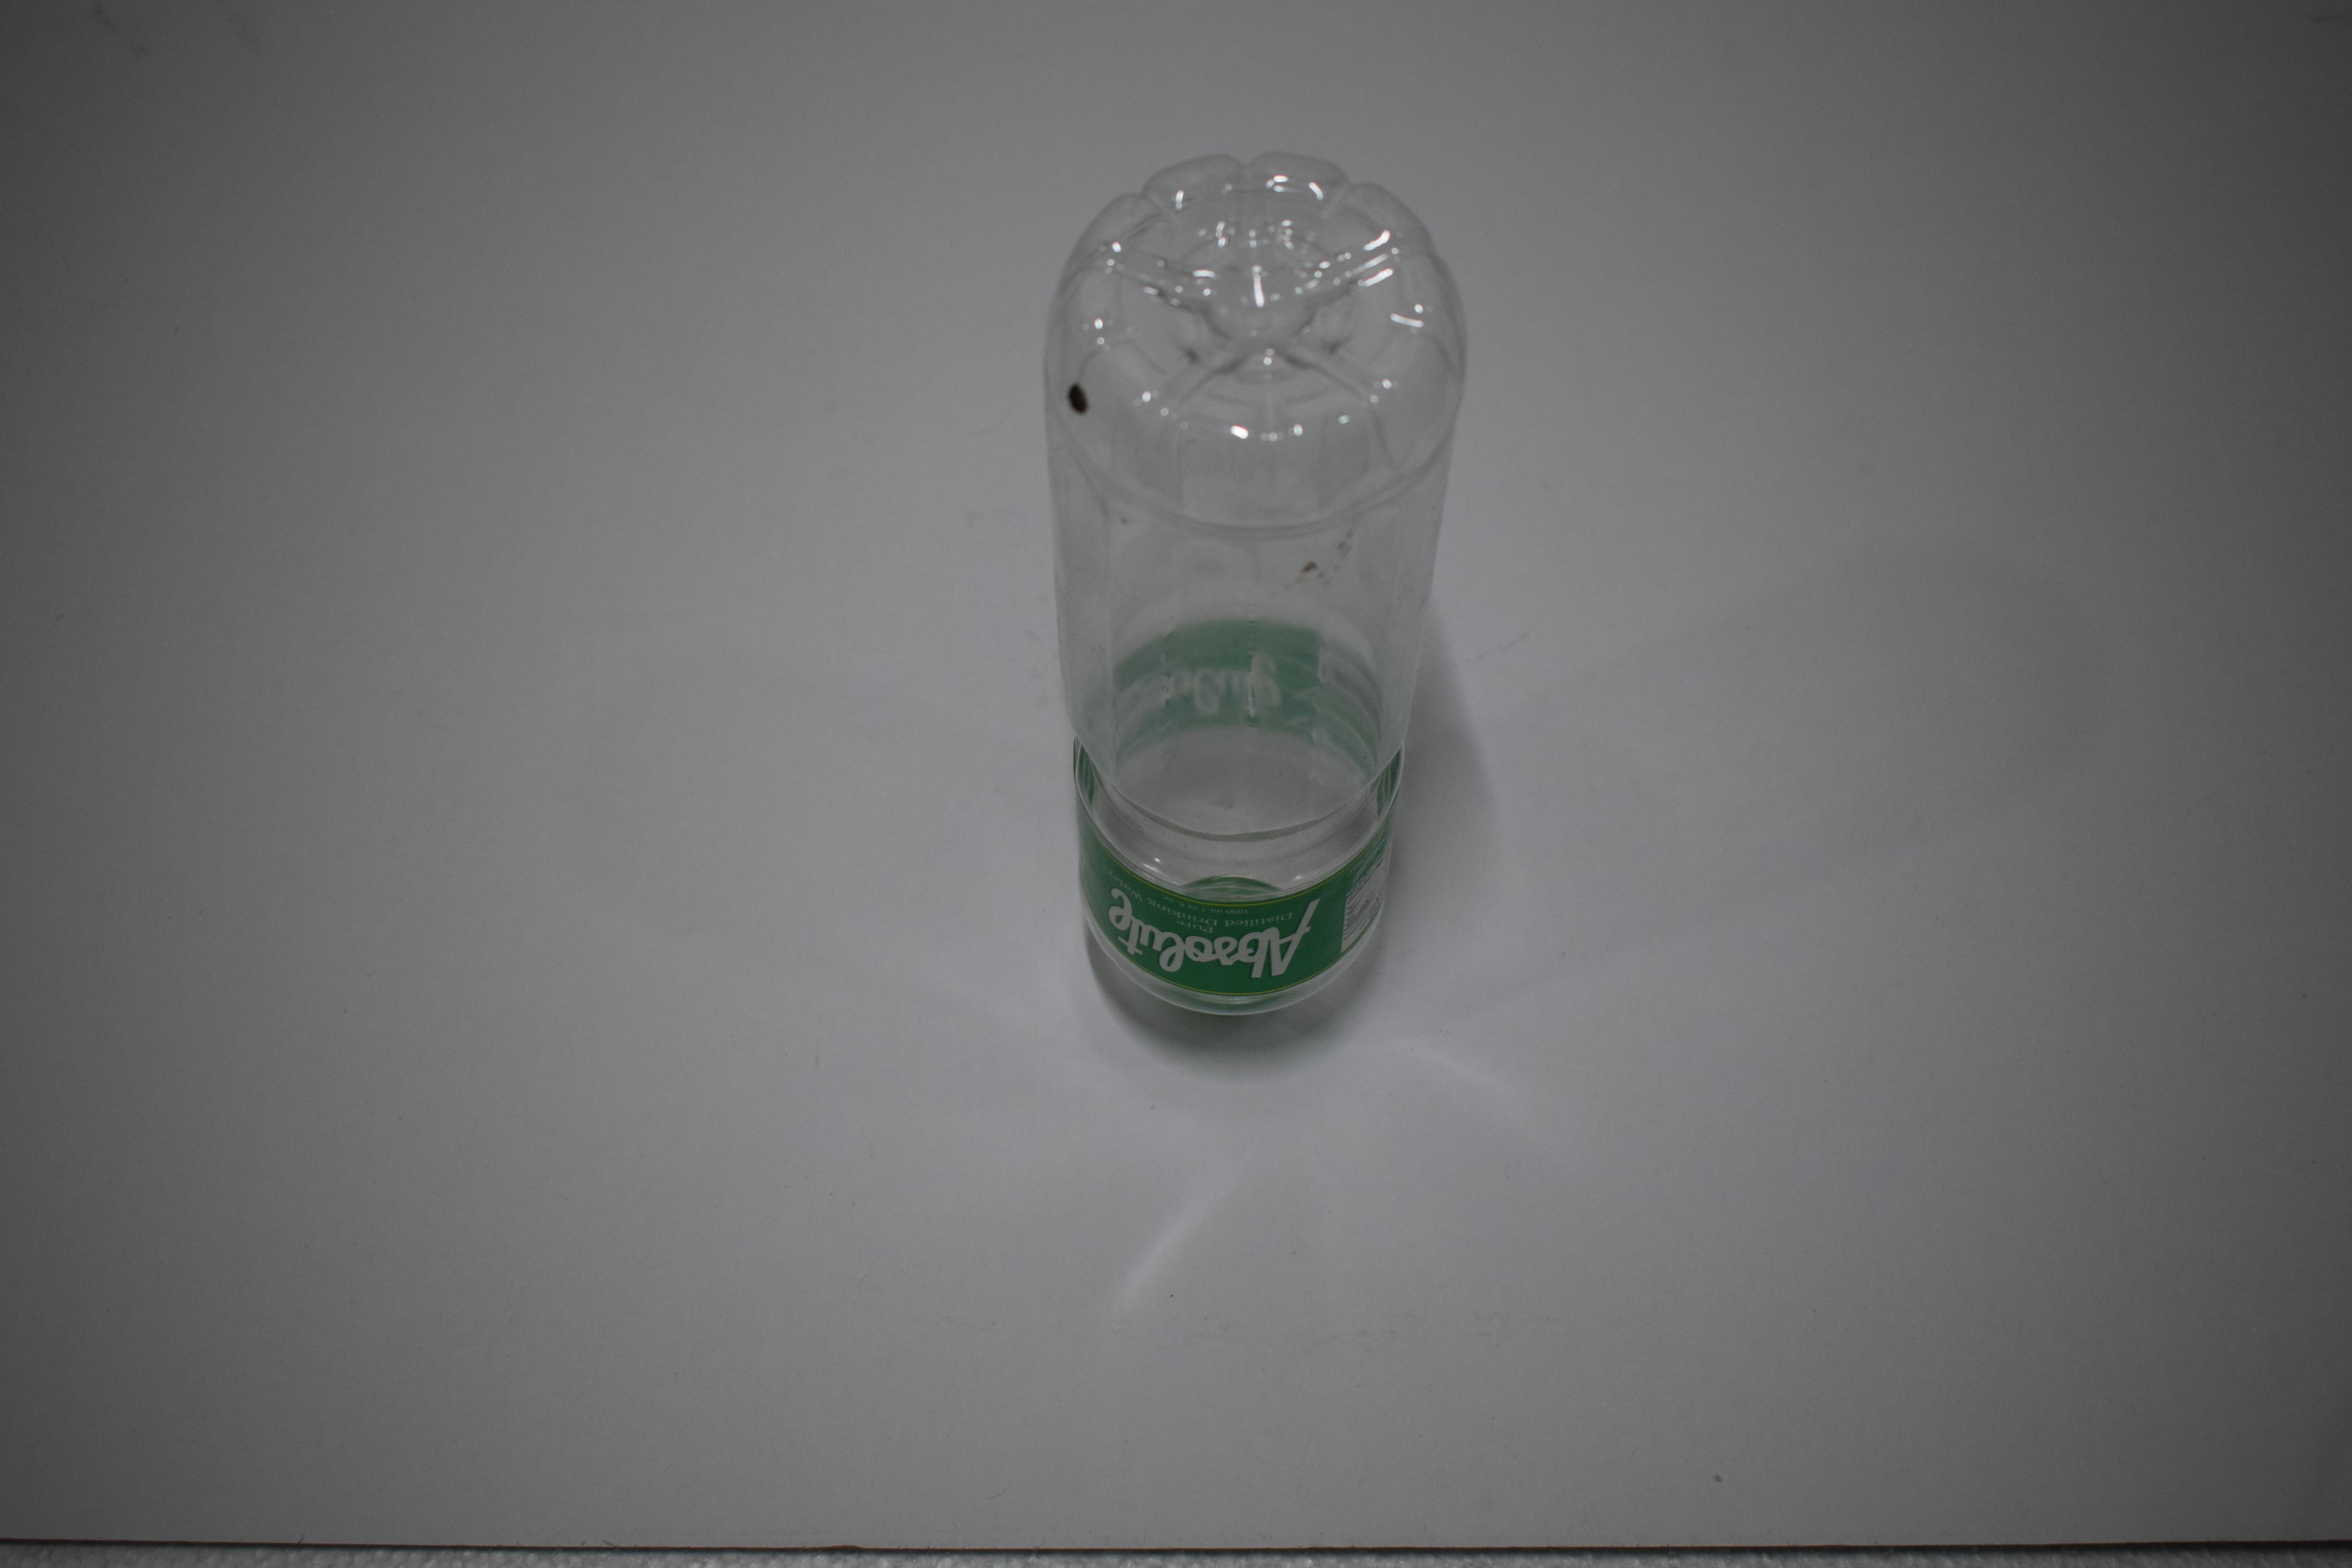bottle: (0, 518, 292, 642)
